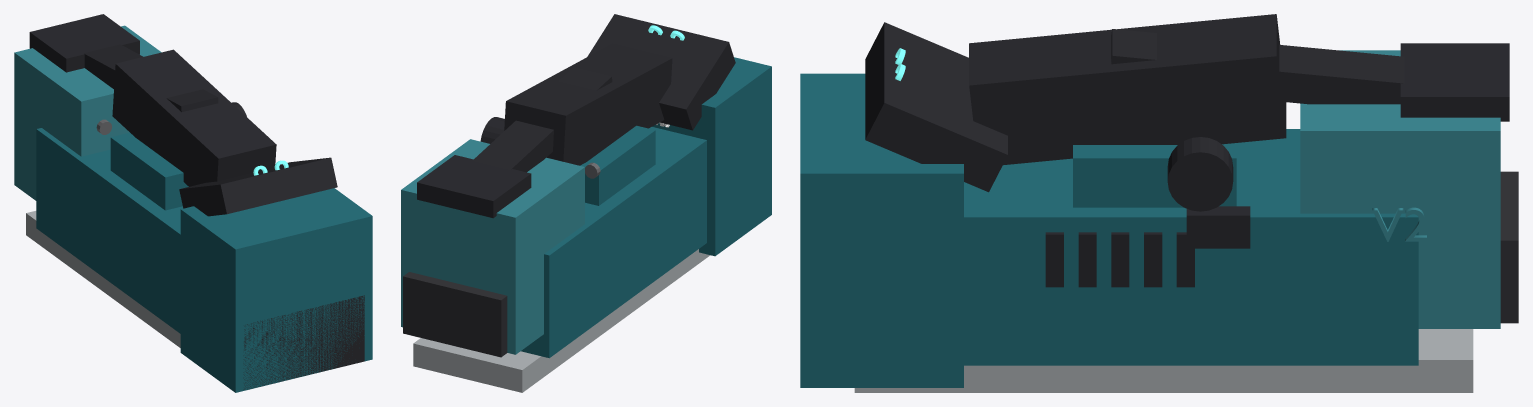
The model's file is strapping_tool.glb.
3 renders of one model, left to right at view 1: azimuth 30°, elevation 25°; view 2: azimuth 150°, elevation 25°; view 3: azimuth 270°, elevation 25°, orthographic. The views are drawn at different scales.
Visible parts, largest first — view 1: BatteryHousing, LowerBody, HandleGrip, FrontHead, BatteryPack, DisplayPanel, StrapSlot, HandleCore, BasePlate, TopLever; view 2: LowerBody, FrontHead, BatteryHousing, HandleGrip, DisplayPanel, NosePlate, BasePlate, StrapSlot, TopLever, HandleCore, LeverPivot; view 3: LowerBody, BatteryHousing, HandleGrip, FrontHead, BasePlate, DisplayPanel, StrapSlot, TopLever, HandleCore, LeverPivot, NosePlate, SideButton (+6 smaller).
Part boxes in pixels (x1,y1,x2,y2): BatteryHousing: [180, 188, 372, 392]; LowerBody: [36, 128, 183, 333]; HandleGrip: [112, 49, 276, 186]; FrontHead: [14, 25, 161, 200]; BatteryPack: [243, 295, 364, 389]; DisplayPanel: [179, 157, 337, 216]; StrapSlot: [29, 14, 139, 72]; HandleCore: [110, 132, 188, 210]; BasePlate: [26, 211, 180, 347]; TopLever: [83, 44, 218, 112]; LowerBody: [521, 127, 706, 358]; FrontHead: [401, 139, 584, 354]; BatteryHousing: [652, 57, 771, 256]; HandleGrip: [504, 43, 672, 165]; DisplayPanel: [587, 14, 735, 130]; NosePlate: [403, 272, 507, 357]; BasePlate: [413, 249, 709, 392]; StrapSlot: [417, 155, 531, 218]; TopLever: [473, 67, 612, 172]; HandleCore: [580, 125, 655, 205]; LeverPivot: [480, 117, 504, 143]; LowerBody: [964, 129, 1418, 365]; BatteryHousing: [800, 73, 963, 387]; HandleGrip: [969, 14, 1286, 165]; FrontHead: [1300, 50, 1500, 328]; BasePlate: [854, 329, 1473, 392]; DisplayPanel: [865, 22, 1007, 192]; StrapSlot: [1400, 43, 1509, 121]; TopLever: [1111, 29, 1404, 104]; HandleCore: [1073, 143, 1236, 207]; LeverPivot: [1167, 137, 1233, 211]; NosePlate: [1500, 171, 1518, 323]; SideButton: [1186, 206, 1250, 248].
Bounding box in the file's own units: 0.131 × 0.1937 × 0.395.
